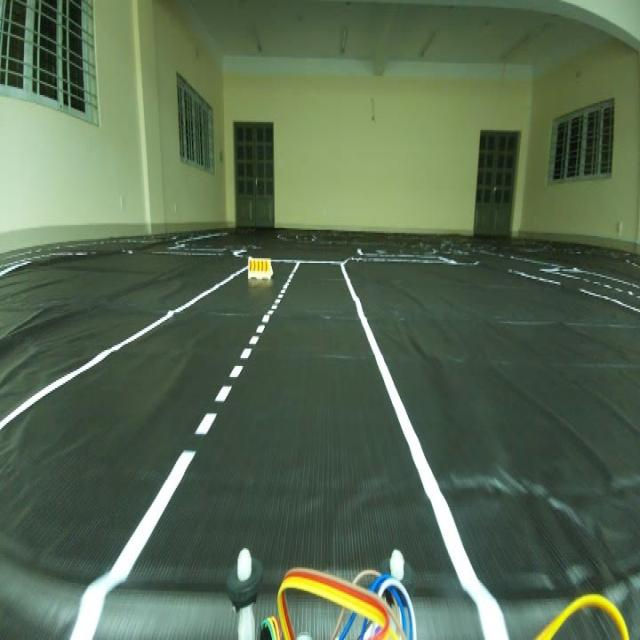roadblock: (241, 242, 275, 287)
